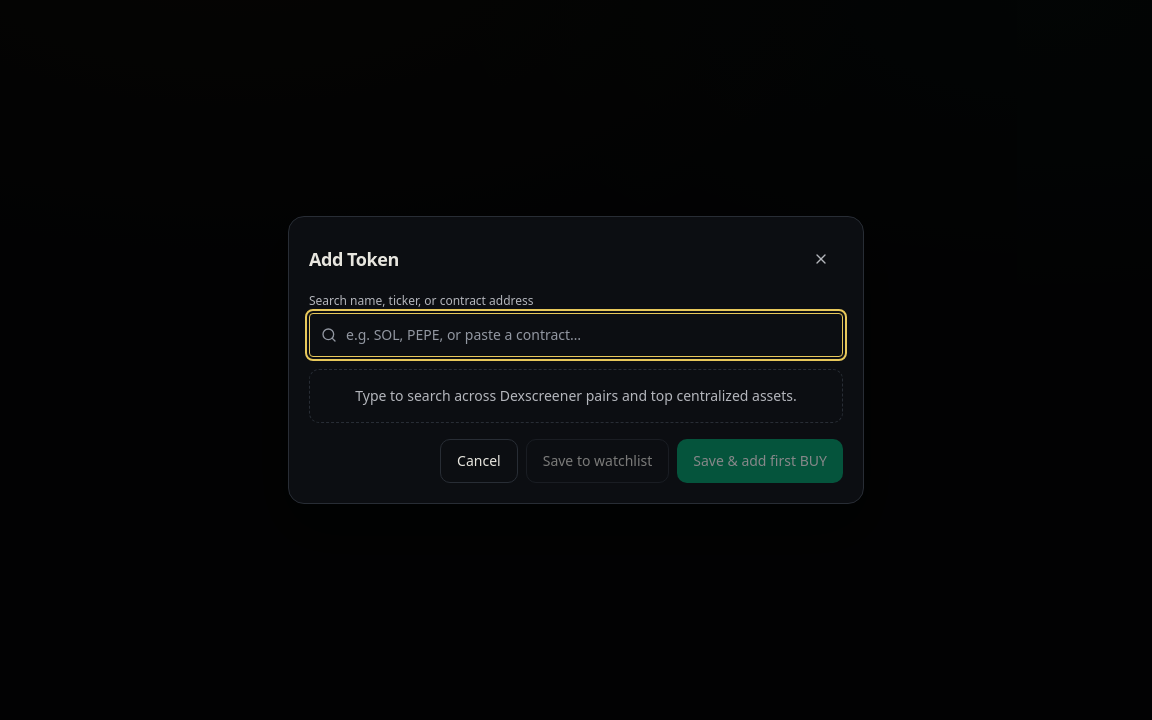
Test: AddTokenModal › shows empty state when no candidates
Type "ZZZNOPE" into the search field labelled "Search name, ticker, or contract address" at point(576, 335), box [309,313,843,357]
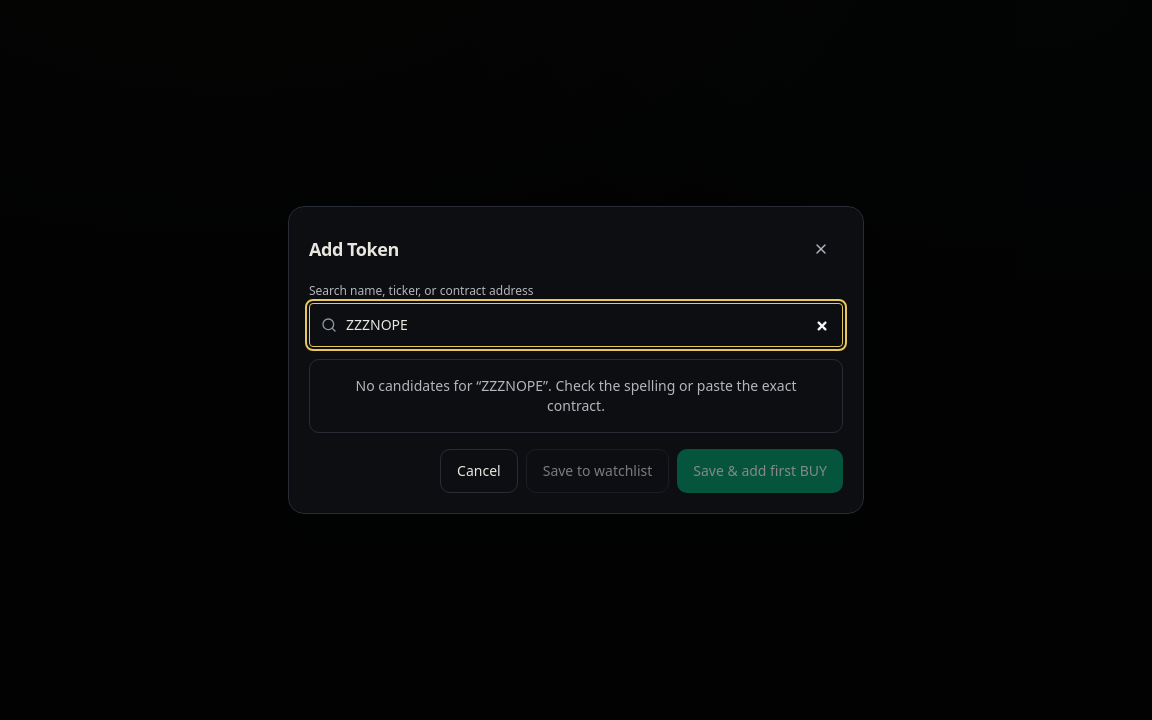
Now the text "No candidates for" is shown, box [356,376,481,395]
